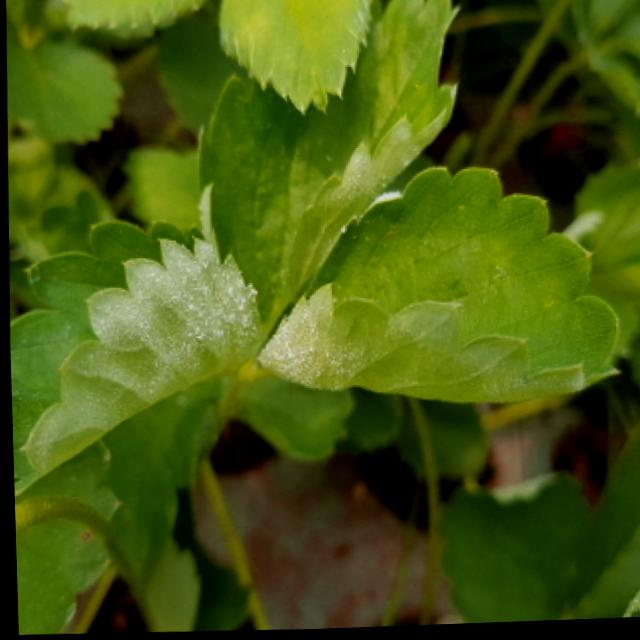Powdery Mildew Leaf: (197, 0, 463, 333), (253, 168, 619, 408), (7, 217, 263, 495)
